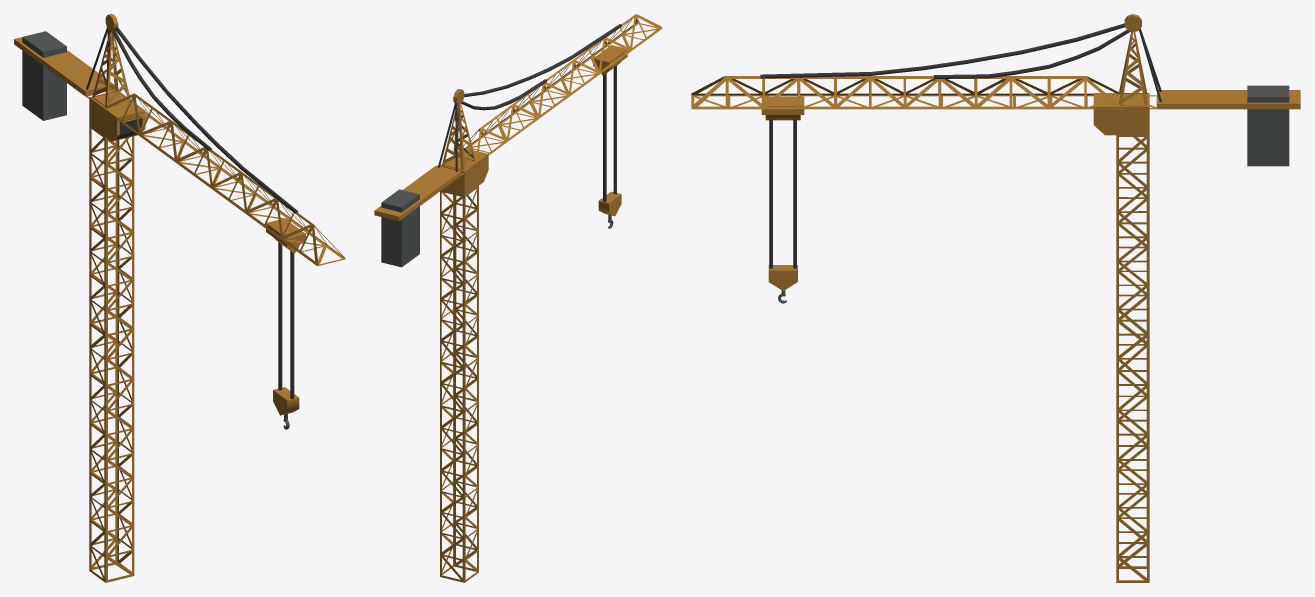
Rendered from crane.fbx.
3 views of the same model, side by side, from view 1: azimuth 30°, elevation 25°; view 2: azimuth 150°, elevation 25°; view 3: azimuth 270°, elevation 25° (orthographic). The views are drawn at different scales.
Visible parts, largest first — view 1: pully1; view 2: pully1; view 3: pully1.
Part boxes in pixels (x1,y1,x2,y2): pully1: (14, 14, 345, 582); pully1: (374, 14, 662, 582); pully1: (691, 14, 1300, 582).
Size of the model in its own units: 20.15 by 374 by 368.
